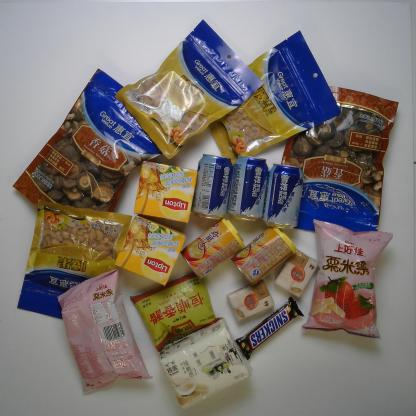Alcohol: (187, 150, 234, 222), (225, 151, 270, 226), (260, 160, 306, 233)
Canned Food: (176, 213, 247, 283), (228, 223, 299, 288)
Chocolate: (232, 293, 307, 362)
Dried Food: (10, 66, 165, 216), (278, 83, 401, 236)
Dried Fruit: (112, 17, 266, 163), (206, 26, 344, 170), (15, 197, 135, 322)
Instant Drink: (112, 211, 189, 289), (131, 155, 200, 226)
Puffed Food: (55, 266, 154, 398), (298, 216, 394, 342)
Seasoner: (128, 269, 224, 356)
Tissue: (155, 314, 256, 411), (271, 246, 322, 301), (224, 278, 278, 324)
